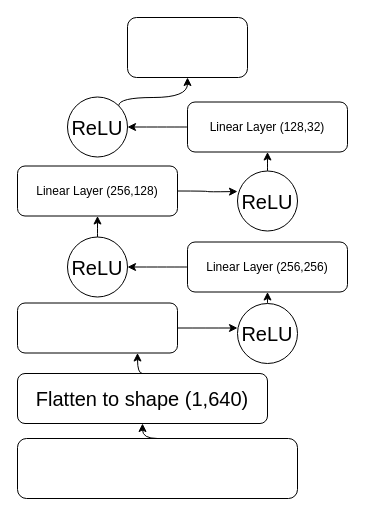
This 365x516 diagram has some shape labels left out. Here are the shapes that lost their labels. From the top down, the centre of each, then its label:
point (187, 47): Output Linear (32,4)
point (97, 327): Linear Layer (640,256)
point (157, 468): DTSE of shape (4,8,10)
